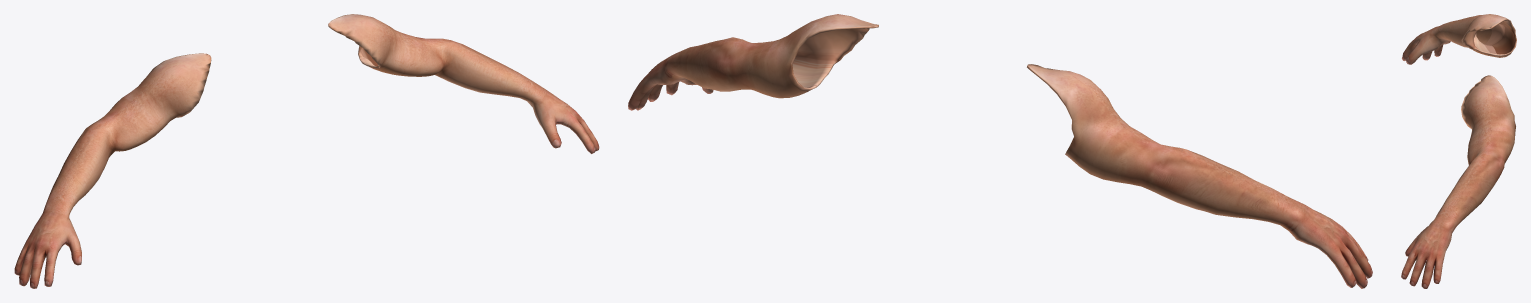
The model's file is HANDS.glb.
3 views of the same model, side by side, from view 1: azimuth 30°, elevation 25°; view 2: azimuth 150°, elevation 25°; view 3: azimuth 270°, elevation 25° (orthographic). The views are drawn at different scales.
Visible parts, largest first — view 1: part_00000001.001, part_00000001.002; view 2: part_00000001.001, part_00000001.002; view 3: part_00000001.002, part_00000001.001.
Part boxes in pixels (x1,y1,x2,y2): part_00000001.001: (14,53,211,288); part_00000001.002: (328,14,599,153); part_00000001.001: (1027,64,1372,288); part_00000001.002: (628,14,878,110); part_00000001.002: (1401,75,1515,288); part_00000001.001: (1402,14,1516,64).
Bounding box in the file's own units: 1.34 × 0.335 × 0.2835.
Materials: 1 (1 with a texture image).
